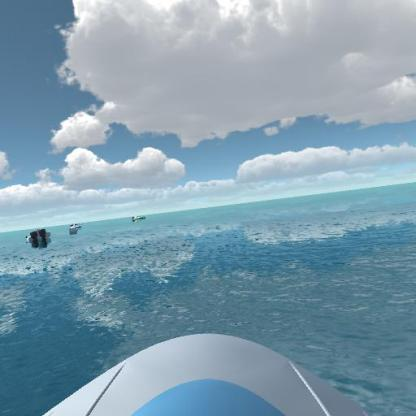usv0: (129, 212, 150, 224)
usv1: (23, 224, 56, 249), (68, 220, 84, 231)
